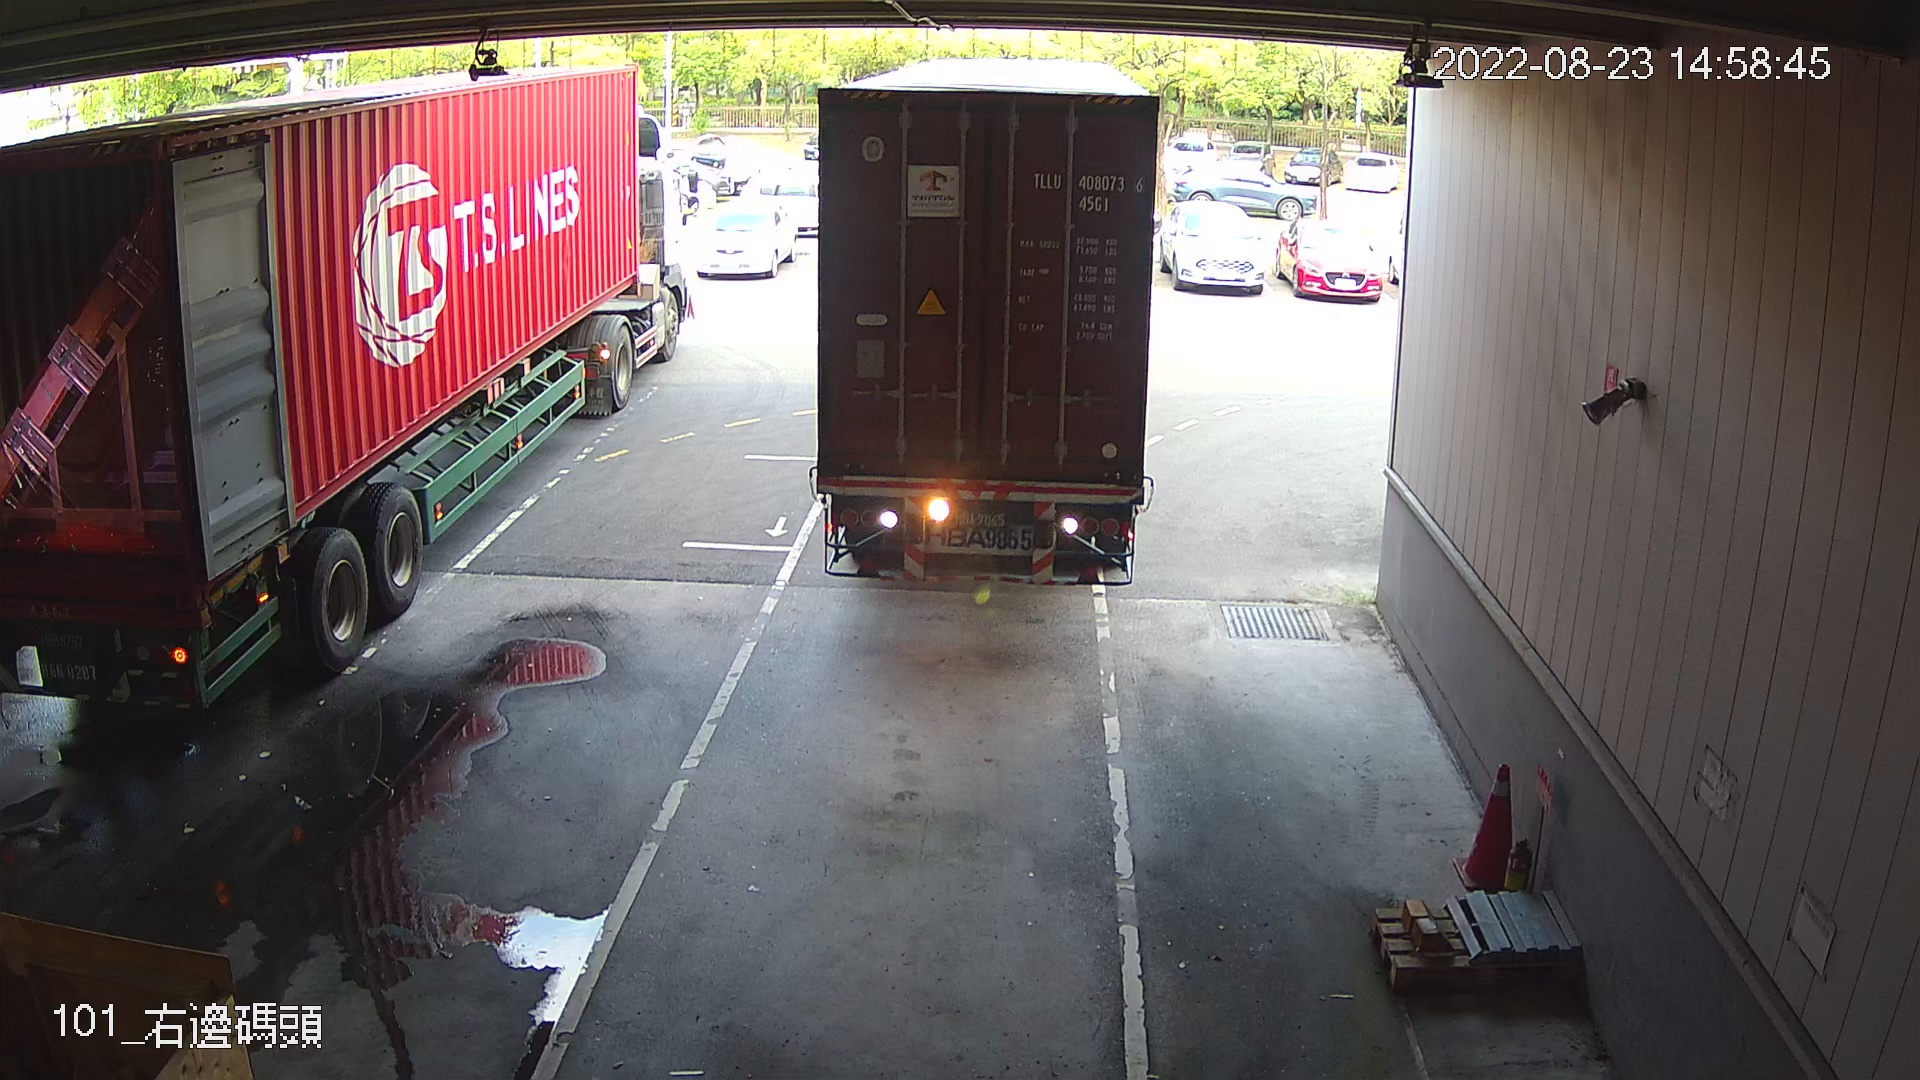container: (1025, 158, 1150, 219)
